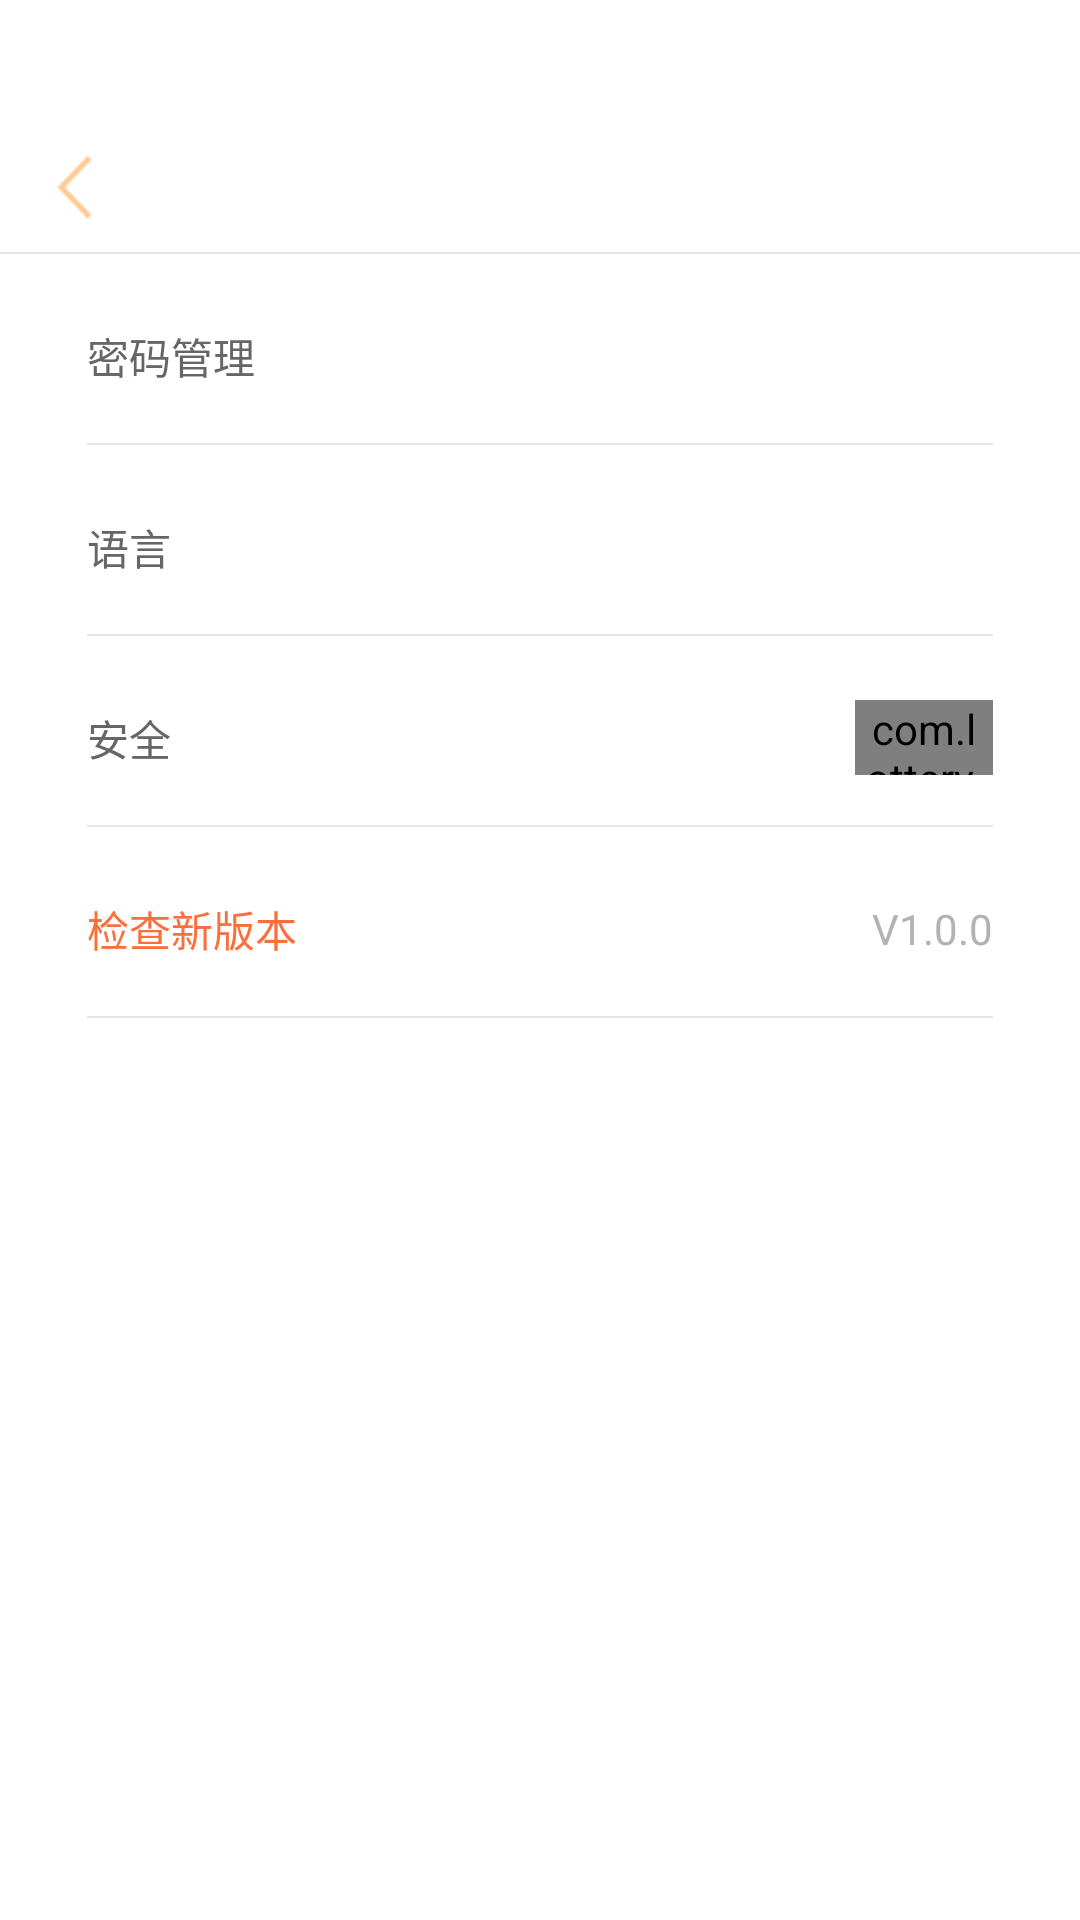

Screen size 1080*1920. Icon name, then its center in pixels as [x,y]:
left back: [74,187]
